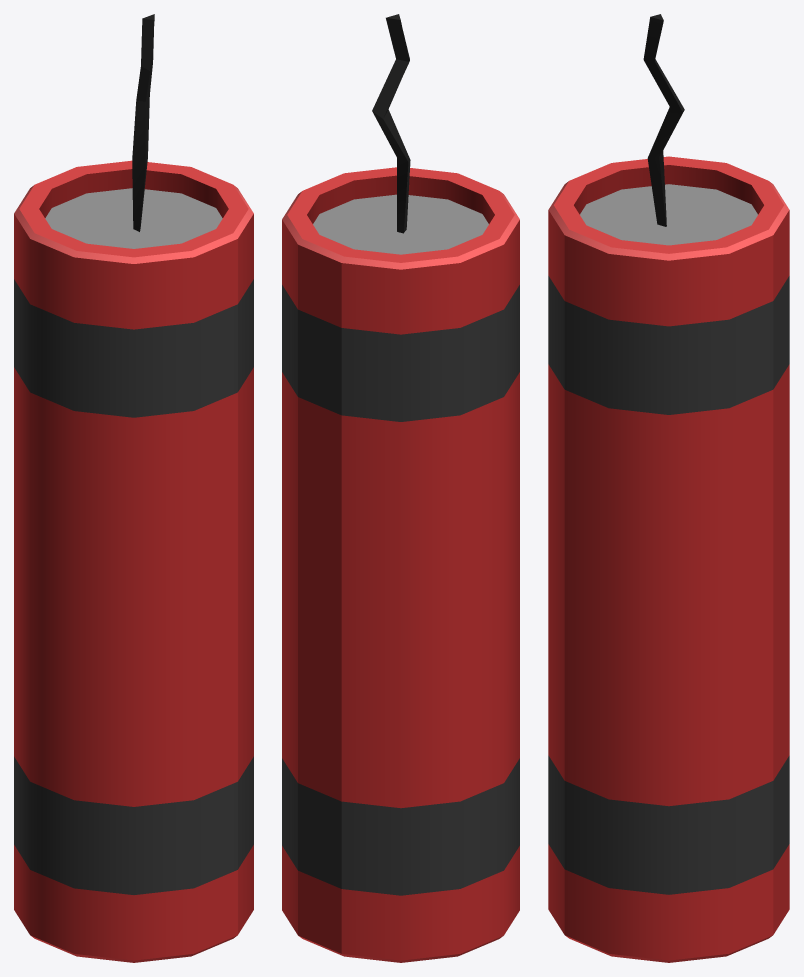
File: Weapon_grenade01_G01.fbx
The picture shows the model from 3 angles, left to right: view 1: azimuth 30°, elevation 25°; view 2: azimuth 150°, elevation 25°; view 3: azimuth 270°, elevation 25°; orthographic projection.
Parts seen in each view (by area): view 1: Weapon_grenade01_G01; view 2: Weapon_grenade01_G01; view 3: Weapon_grenade01_G01.
Boxes of the visible parts, left/top/right/bottom form: Weapon_grenade01_G01: left=14, top=14, right=253, bottom=962; Weapon_grenade01_G01: left=282, top=14, right=519, bottom=962; Weapon_grenade01_G01: left=548, top=14, right=789, bottom=962.
Bounding box in the file's own units: 1.43 × 5.92 × 1.43.
